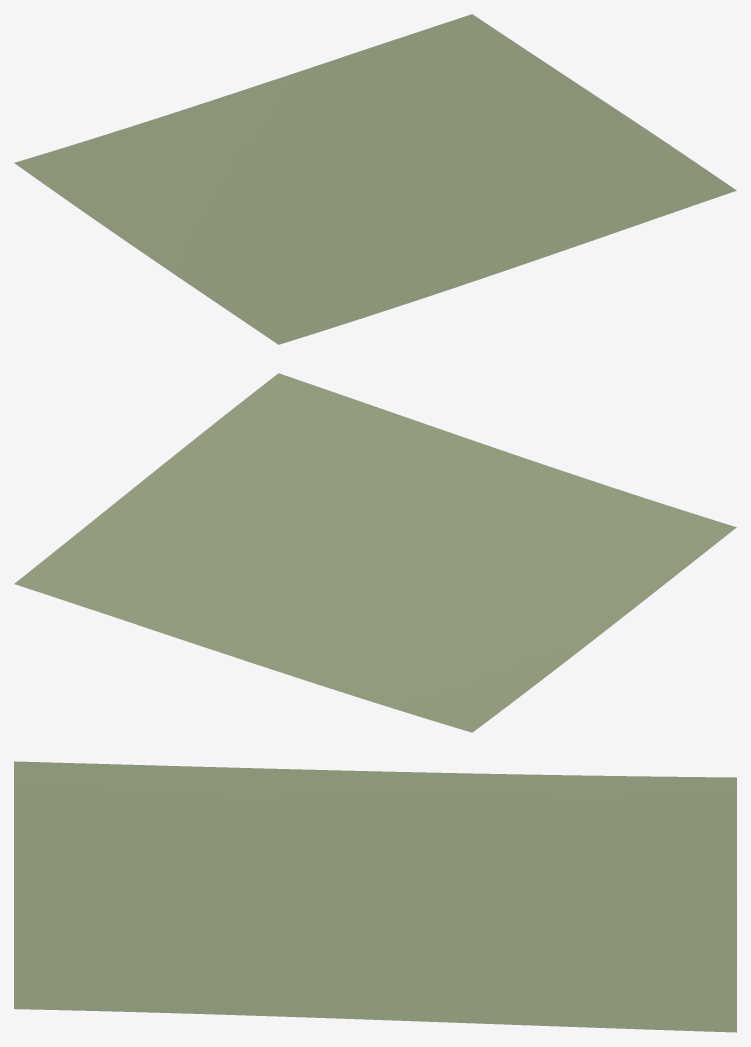
File: expanse-20-12.glb
3 renders of one model, top to bottom at view 1: azimuth 30°, elevation 25°; view 2: azimuth 150°, elevation 25°; view 3: azimuth 270°, elevation 25°, orthographic. The views are drawn at different scales.
Visible parts, largest first — view 1: expanse-20-12; view 2: expanse-20-12; view 3: expanse-20-12.
Part boxes in pixels (x1,y1,x2,y2): expanse-20-12: (14,14,736,344); expanse-20-12: (14,373,736,732); expanse-20-12: (14,761,736,1032).
Bounding box in the file's own units: 256 × 28.88 × 256.
